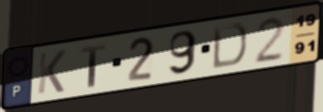2: (252, 15, 288, 66), (126, 35, 156, 83)
9: (167, 29, 198, 76)
D: (210, 21, 249, 71)
K: (35, 48, 68, 97)
T: (78, 42, 108, 90)
